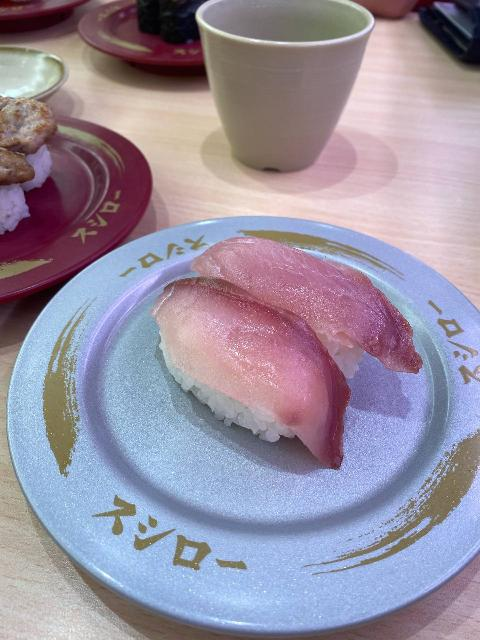janred: (13, 99, 152, 264), (58, 10, 201, 80), (0, 0, 84, 29), (360, 9, 427, 37)
janwhite: (41, 234, 480, 578)
